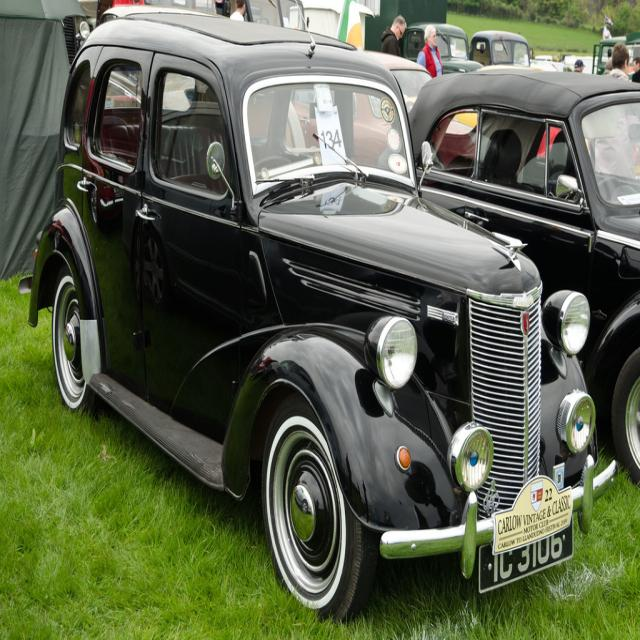car: (21, 0, 620, 624)
